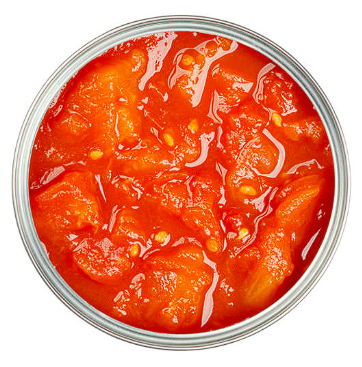Danificado: (18, 17, 362, 335)
